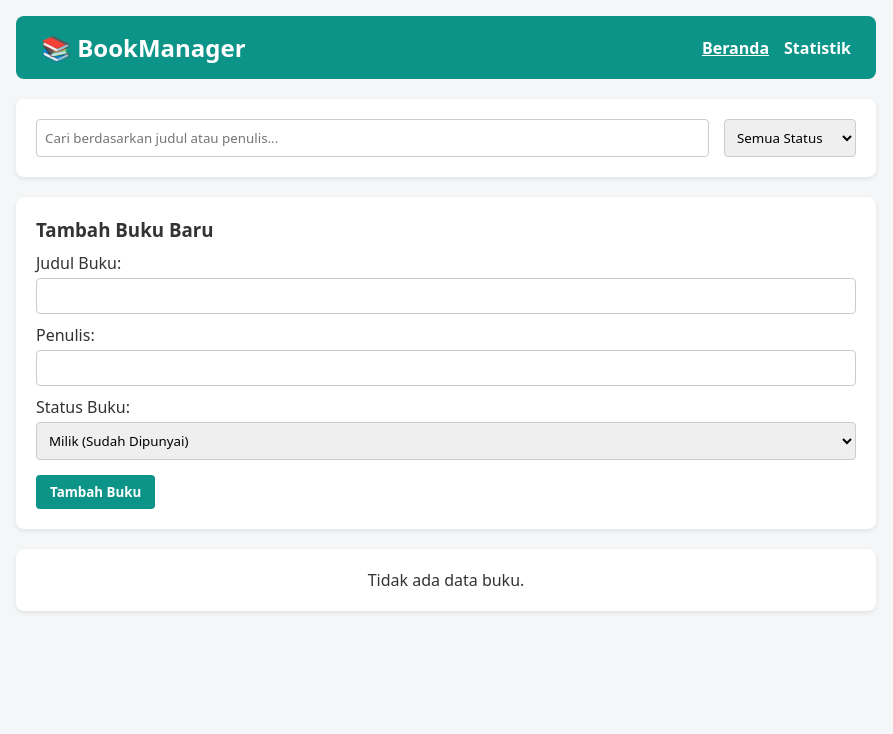
Test case: Aplikasi Manajemen Buku - Integration Testing › 4. Mampu melakukan pencarian/filter berdasarkan judul buku
This screenshot has width=893, height=734.
Type "Bumi Manusia" into the field labelled "Judul Buku:" at (446, 296), box [36, 278, 856, 314]
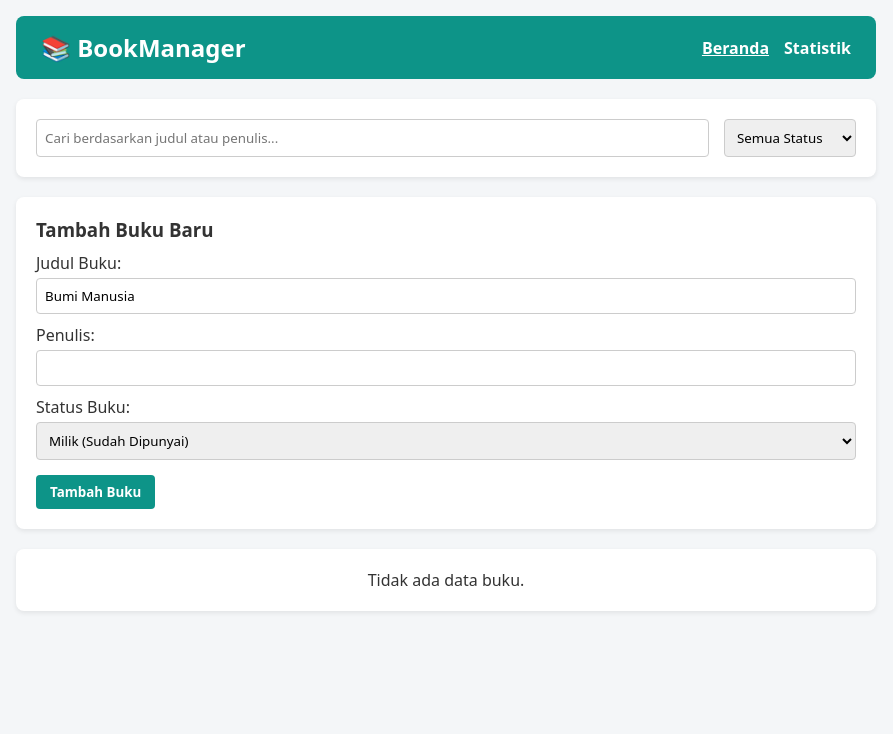
Type "Pramoedya" into the field labelled "Penulis:" at (446, 368), box [36, 350, 856, 386]
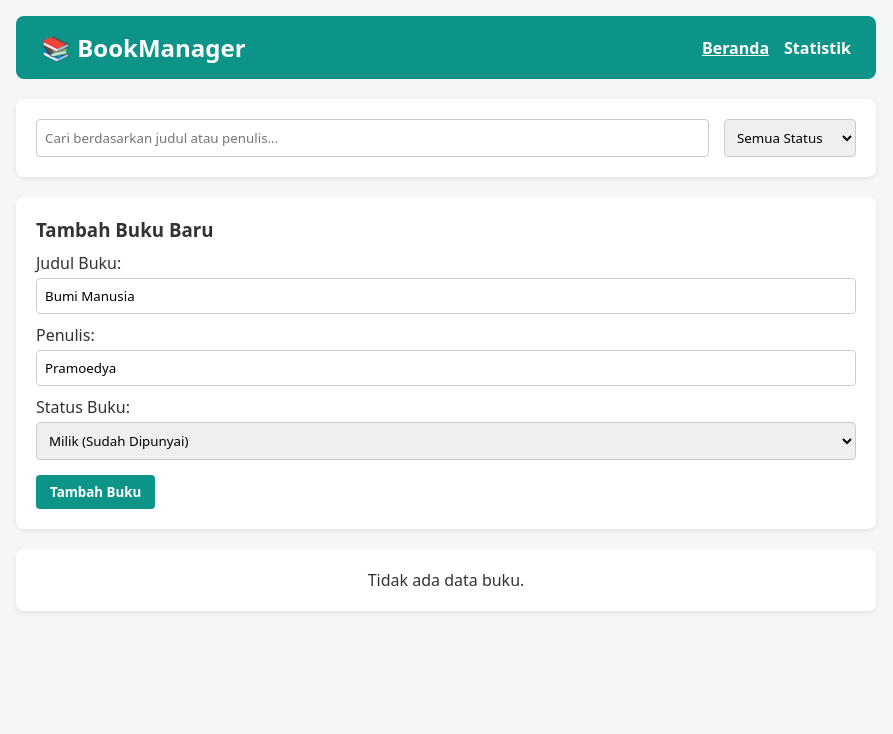
Click the button "Tambah Buku" at (96, 492), box [36, 475, 155, 509]
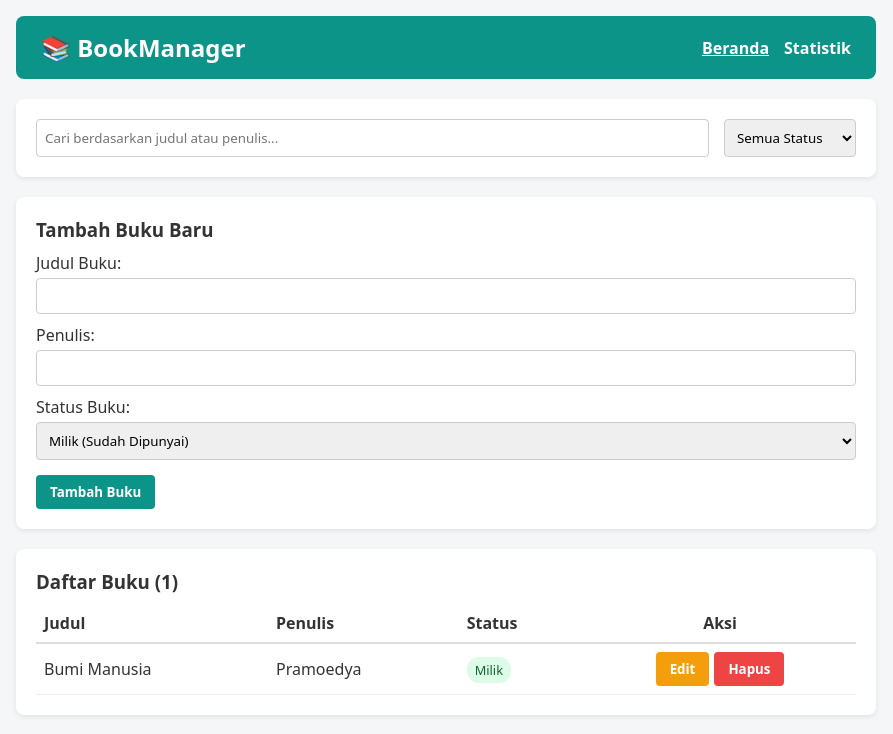
Type "Bumi" into the field with placeholder "Cari berdasarkan judul atau penulis..." at (372, 138), box [36, 119, 709, 157]
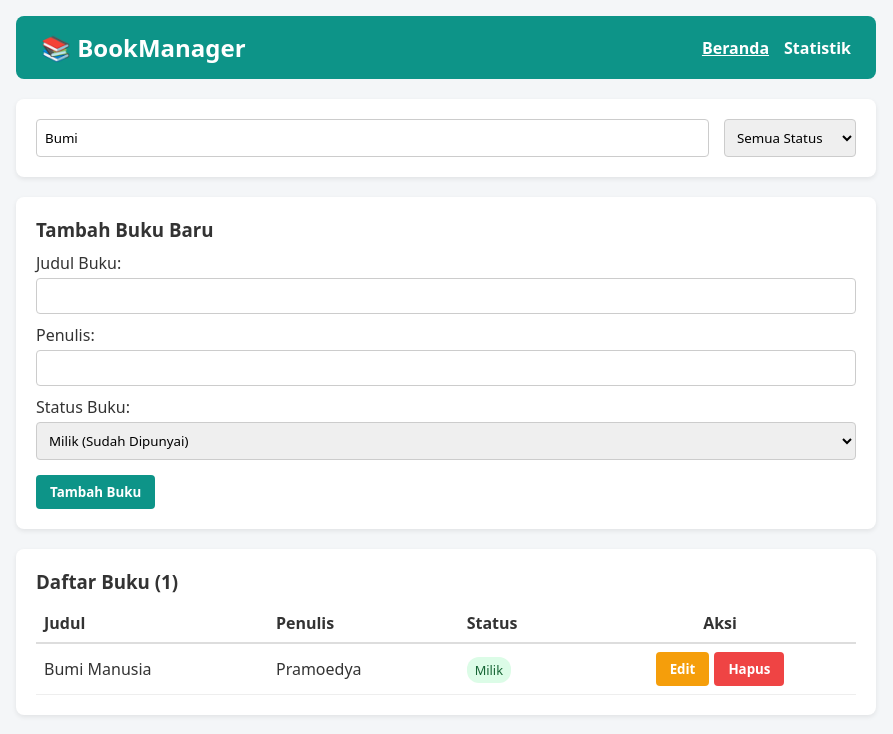
Check: the text "Bumi Manusia" is shown, box [36, 643, 268, 694]
Replace the text in the field with placeholder "Cari berdasarkan judul atau penulis..." with "Tidak Ada" at (372, 138), box [36, 119, 709, 157]
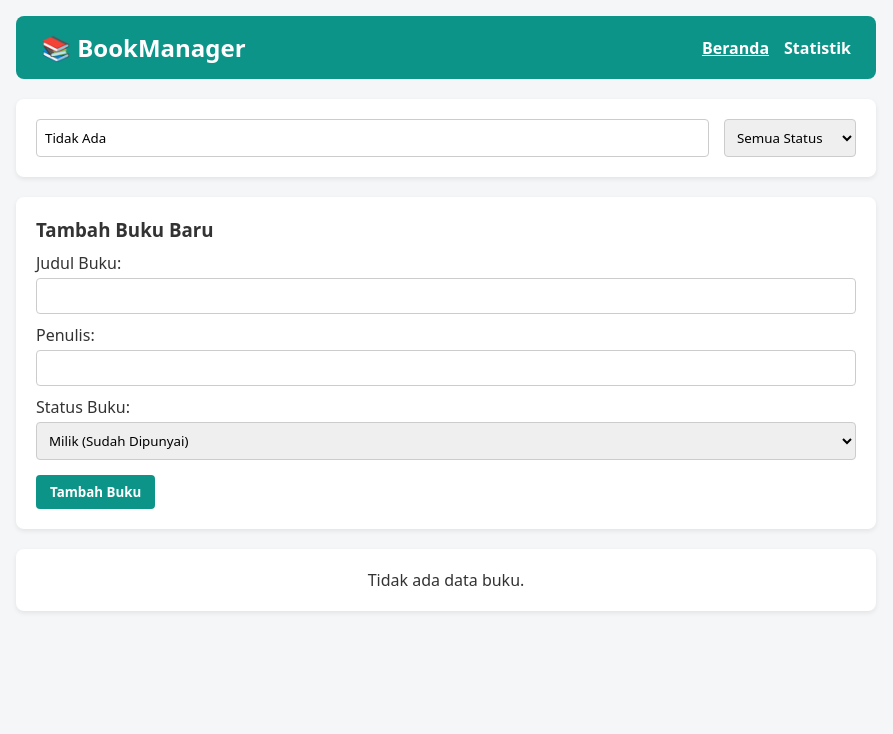
Check: the text "Bumi Manusia" is gone
